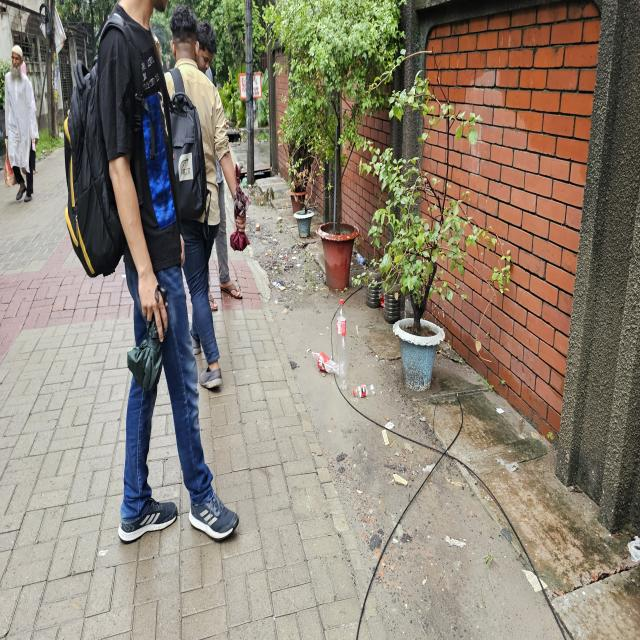artificial_container: (311, 351, 345, 376), (336, 300, 347, 354), (339, 330, 348, 390), (354, 383, 376, 397), (356, 253, 364, 265)
